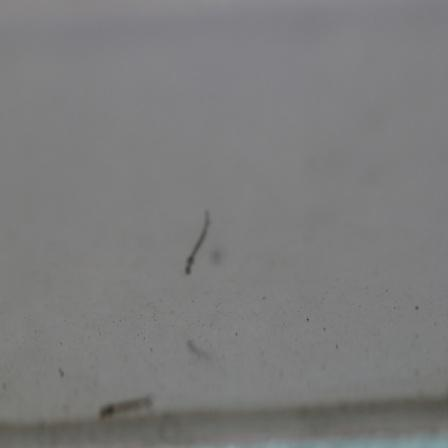Jentik-Nyamuk: (182, 208, 212, 278)
